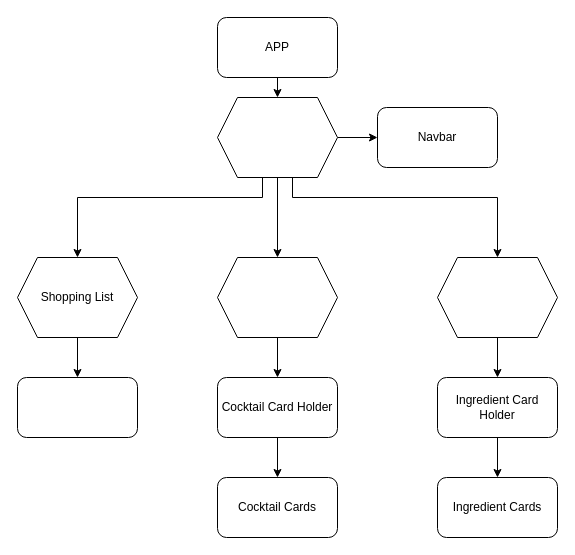
This 575x555 diagram has some shape labels left out. The box of each missing label's shape, as (x1, y1, x2, y2) in pixels:
Backbar: (436, 256, 558, 338)
Cocktails: (216, 256, 338, 338)
Nav/Router: (216, 96, 338, 178)
TODO List: (16, 376, 138, 438)
